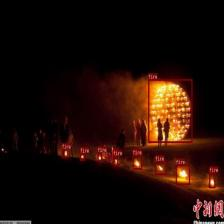fire: (148, 79, 192, 143), (175, 164, 190, 185), (155, 161, 167, 175), (132, 155, 142, 169), (209, 172, 215, 188), (62, 148, 68, 158), (113, 155, 118, 166), (97, 152, 102, 162), (79, 152, 84, 160)
